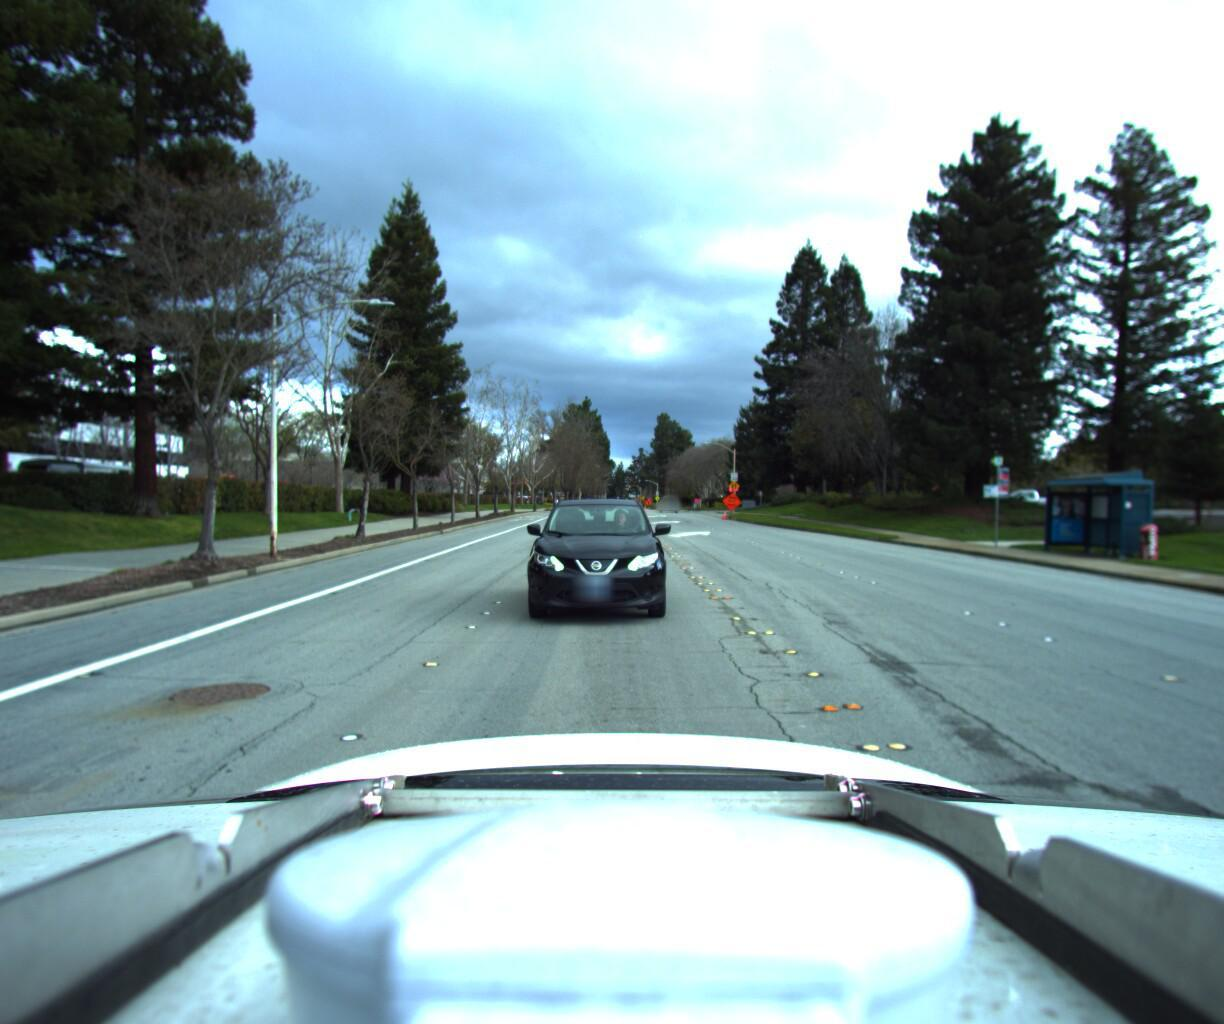car: (518, 489, 664, 624), (657, 489, 677, 506)
